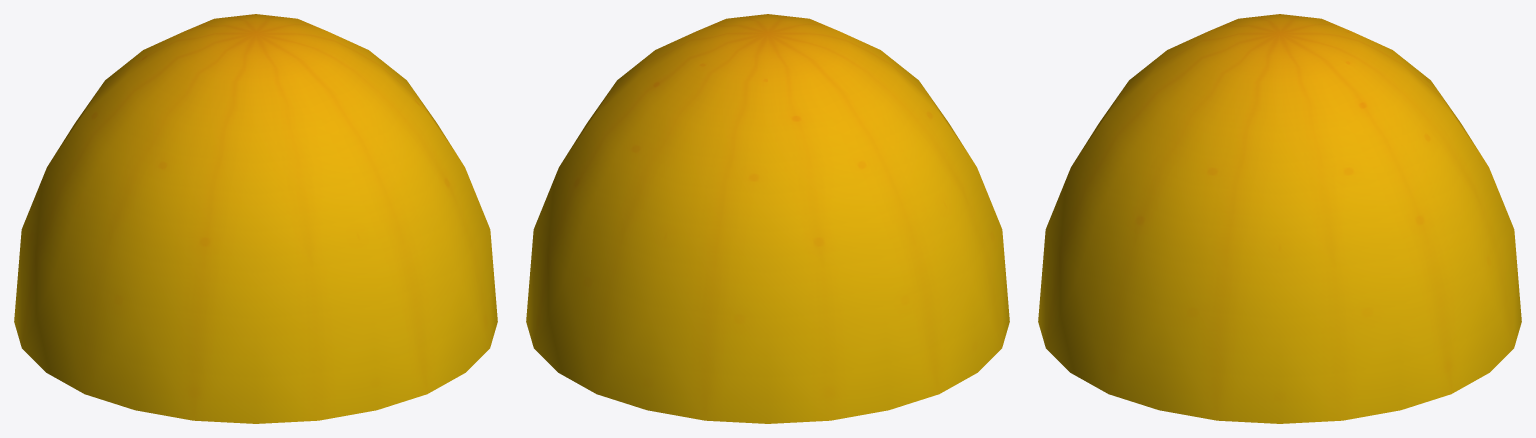
The model's file is HoneydewMelon_Half_Top.fbx.
3 views of the same model, side by side, from view 1: azimuth 30°, elevation 25°; view 2: azimuth 150°, elevation 25°; view 3: azimuth 270°, elevation 25° (orthographic).
Parts seen in each view (by area): view 1: HoneydewMelon_Half_Top; view 2: HoneydewMelon_Half_Top; view 3: HoneydewMelon_Half_Top.
Boxes of the visible parts, x1=… form: HoneydewMelon_Half_Top: x1=14, y1=14, x2=497, y2=423; HoneydewMelon_Half_Top: x1=526, y1=14, x2=1009, y2=423; HoneydewMelon_Half_Top: x1=1038, y1=14, x2=1521, y2=423.
Size of the model in its own units: 2.09 by 1.37 by 2.09.
